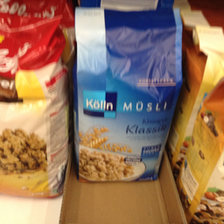cereal: (70, 57, 182, 182), (1, 28, 69, 197)
